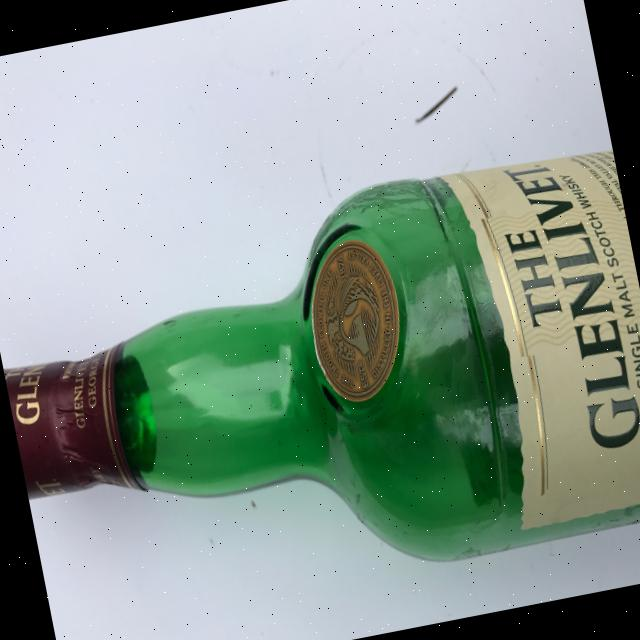glass: (0, 137, 640, 638)
